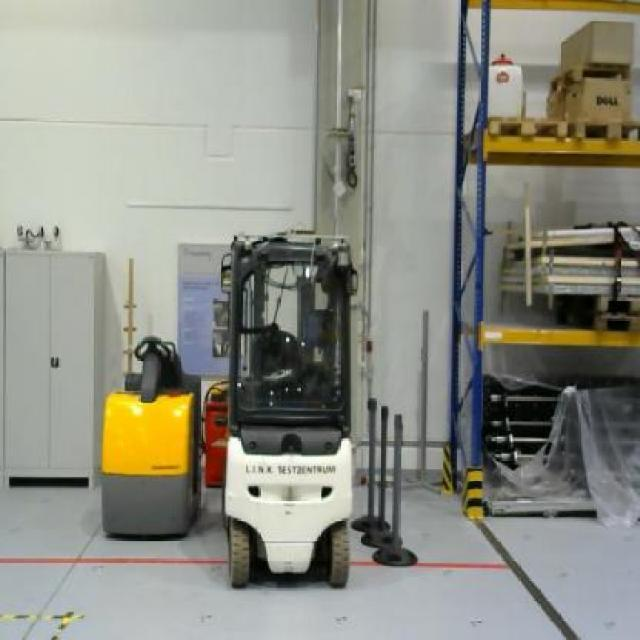box: (544, 78, 632, 124), (558, 18, 634, 66)
